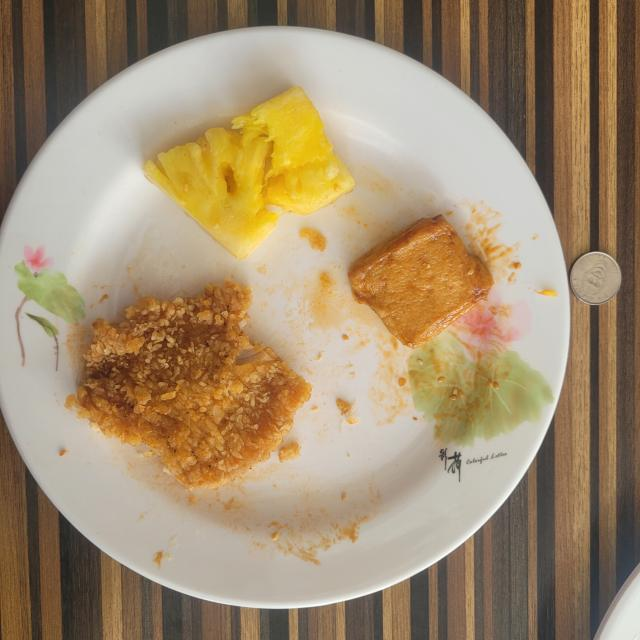coin: (570, 251, 621, 305)
creamy tofu: (348, 215, 494, 348)
fried chicken cutlet: (66, 281, 311, 490)
pineapple: (144, 86, 354, 259)
